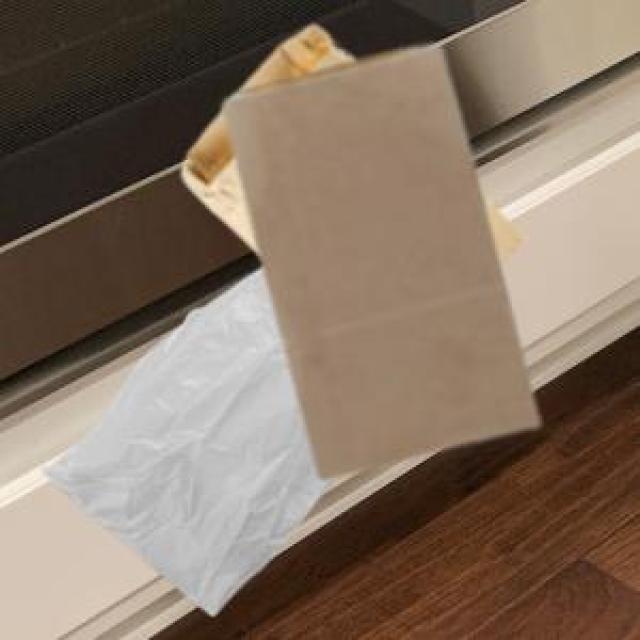paper: (220, 43, 533, 474), (179, 21, 518, 260)
